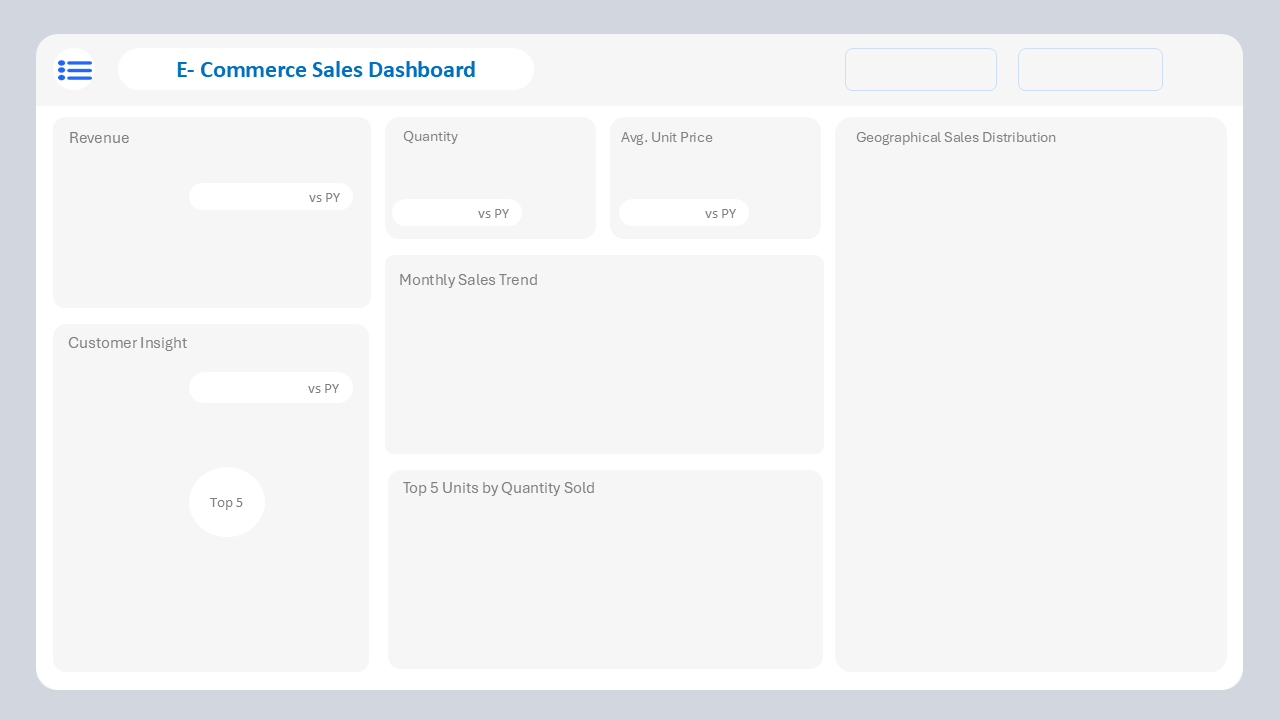

What the dashboard file says about the page in this screenshot:
{"tool":"powerbi","page":{"name":"E-Commerce Sales Dashboard","canvas":[1920,1080],"ordinal":0},"visuals":[{"type":"shapeMap","fields":{"Category":["item_dim.man_country"]},"box":[1271.8,241.1,552.2,520.9],"z":0},{"type":"card","fields":{"Values":["DAX Measure.TOTAL SALES"]},"box":[82.8,195.1,189.6,104.9],"z":1000},{"type":"card","fields":{"Values":["DAX Measure.TOTAL QTY"]},"box":[581,186.8,179.3,106.5],"z":2000},{"type":"card","fields":{"Values":["DAX Measure.AVG UNIT PRICE"]},"box":[918.4,187.7,143.6,104.9],"z":3000},{"type":"card","fields":{"Values":["DAX Measure.CUSTOMER"]},"box":[82.8,502.5,143.6,104.9],"z":4000},{"type":"card","fields":{"Values":["DAX Measure.% YoY Sales"]},"box":[285.3,259.5,189.6,62.6],"z":5000},{"type":"card","fields":{"Values":["DAX Measure.% YoY Customer"]},"box":[272.4,544.8,189.6,62.6],"z":6000},{"type":"card","fields":{"Values":["DAX Measure.% YoY QTY"]},"box":[572.4,283.4,189.6,62.6],"z":7000},{"type":"card","fields":{"Values":["DAX Measure.% YoY Price"]},"box":[907.4,285.3,189.6,62.6],"z":8000},{"type":"slicer","fields":{"Values":["time_dim.year"]},"box":[1272.2,72.9,226,85.9],"z":9000},{"type":"columnChart","fields":{"Category":["time_dim.Date.Variation.Date Hierarchy.Month"],"Y":["DAX Measure.TOTAL SALES"]},"box":[82.6,314.9,464.5,142.9],"z":10000},{"type":"lineChart","fields":{"Category":["time_dim.month"],"Y":["DAX Measure.TOTAL QTY"]},"box":[708,179.3,162.5,114],"z":11000},{"type":"lineChart","fields":{"Category":["time_dim.month"],"Y":["DAX Measure.AVG UNIT PRICE"]},"box":[1062.9,177.5,162.5,114],"z":12000},{"type":"lineChart","fields":{"Category":["time_dim.month"],"Y":["DAX Measure.CUSTOMER"]},"box":[65.4,827.6,515.6,160.7],"z":13000},{"type":"donutChart","fields":{"Category":["customer_dim.name"],"Y":["DAX Measure.TOTAL SALES"]},"box":[78.2,611.9,446.6,274.7],"z":14000},{"type":"lineChart","fields":{"Category":["time_dim.month"],"Y":["DAX Measure.TOTAL SALES"]},"box":[556,448.9,701.2,247.9],"z":15000},{"type":"clusteredBarChart","fields":{"Category":["fact_table.unit"],"Y":["DAX Measure.TOTAL QTY"]},"box":[580.6,739.2,645.4,250.1],"z":16000},{"type":"clusteredBarChart","fields":{"Category":["item_dim.man_country"],"Y":["DAX Measure.TOTAL SALES"]},"box":[1257.5,738.1,548.1,249.7],"z":17000},{"type":"slicer","fields":{"Values":["item_dim.man_country"]},"box":[1531.3,73.6,208,86.5],"z":17002}]}

Visuals, with their boxes in screenshot pixels (x1, y1, x2, y2), scaled from the page's 1920x1080 canvas onto the 1280x720 screenshot:
shapeMap - item_dim.man_country: [left=848, top=161, right=1216, bottom=508]
card - DAX Measure.TOTAL SALES: [left=55, top=130, right=182, bottom=200]
card - DAX Measure.TOTAL QTY: [left=387, top=125, right=507, bottom=196]
card - DAX Measure.AVG UNIT PRICE: [left=612, top=125, right=708, bottom=195]
card - DAX Measure.CUSTOMER: [left=55, top=335, right=151, bottom=405]
card - DAX Measure.% YoY Sales: [left=190, top=173, right=317, bottom=215]
card - DAX Measure.% YoY Customer: [left=182, top=363, right=308, bottom=405]
card - DAX Measure.% YoY QTY: [left=382, top=189, right=508, bottom=231]
card - DAX Measure.% YoY Price: [left=605, top=190, right=731, bottom=232]
slicer - time_dim.year: [left=848, top=49, right=999, bottom=106]
columnChart - time_dim.Date.Variation.Date Hierarchy.Month x DAX Measure.TOTAL SALES: [left=55, top=210, right=365, bottom=305]
lineChart - time_dim.month x DAX Measure.TOTAL QTY: [left=472, top=120, right=580, bottom=196]
lineChart - time_dim.month x DAX Measure.AVG UNIT PRICE: [left=709, top=118, right=817, bottom=194]
lineChart - time_dim.month x DAX Measure.CUSTOMER: [left=44, top=552, right=387, bottom=659]
donutChart - customer_dim.name x DAX Measure.TOTAL SALES: [left=52, top=408, right=350, bottom=591]
lineChart - time_dim.month x DAX Measure.TOTAL SALES: [left=371, top=299, right=838, bottom=465]
clusteredBarChart - fact_table.unit x DAX Measure.TOTAL QTY: [left=387, top=493, right=817, bottom=660]
clusteredBarChart - item_dim.man_country x DAX Measure.TOTAL SALES: [left=838, top=492, right=1204, bottom=659]
slicer - item_dim.man_country: [left=1021, top=49, right=1160, bottom=107]
